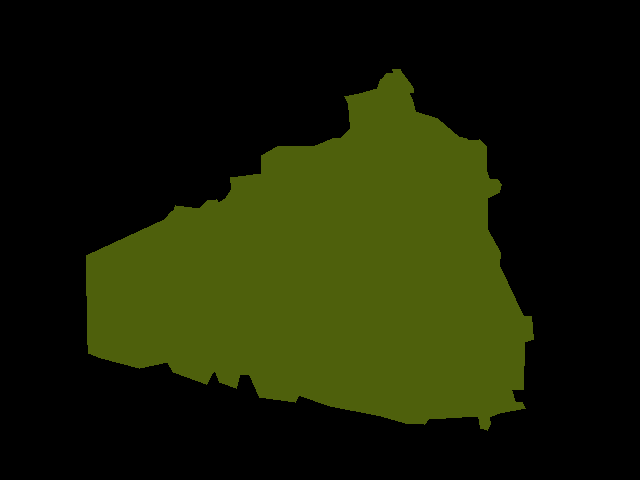Train: (86, 69, 534, 431)
